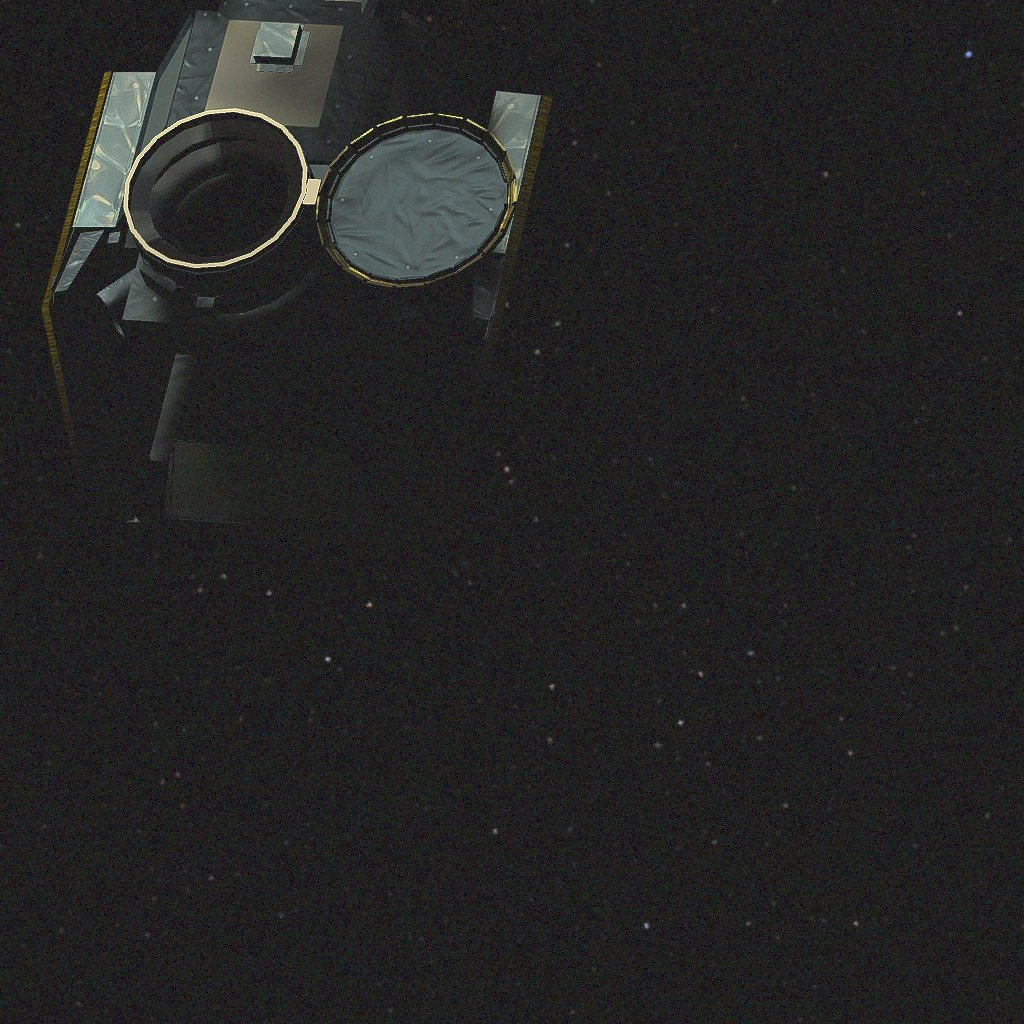cheops: (42, 0, 553, 555)
